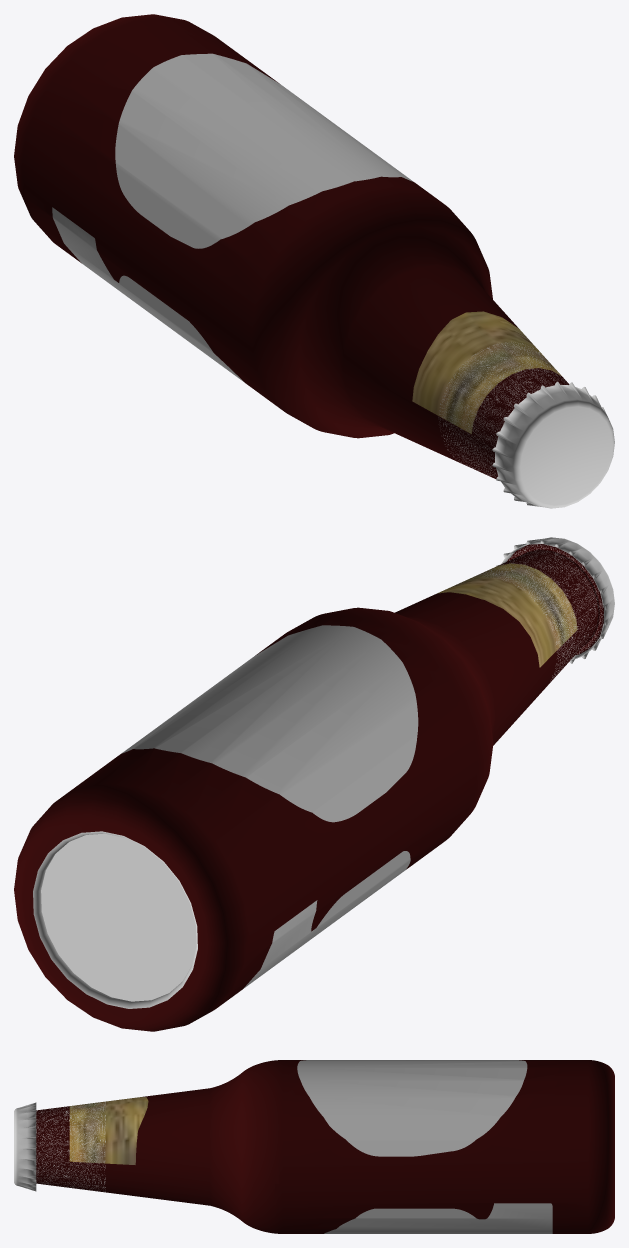
The model's file is model_scale.obj.
3 renders of one model, top to bottom at view 1: azimuth 30°, elevation 25°; view 2: azimuth 150°, elevation 25°; view 3: azimuth 270°, elevation 25°, orthographic. The views are drawn at different scales.
Parts seen in each view (by area): view 1: mesh1_mesh1-geometry, mesh2_mesh2-geometry; view 2: mesh1_mesh1-geometry, mesh2_mesh2-geometry; view 3: mesh1_mesh1-geometry, mesh2_mesh2-geometry.
Boxes of the visible parts, x1=… form: mesh1_mesh1-geometry: x1=14, y1=14, x2=569, y2=478; mesh2_mesh2-geometry: x1=492, y1=381, x2=614, y2=508; mesh1_mesh1-geometry: x1=14, y1=544, x2=603, y2=1031; mesh2_mesh2-geometry: x1=496, y1=537, x2=614, y2=663; mesh1_mesh1-geometry: x1=36, y1=1060, x2=614, y2=1233; mesh2_mesh2-geometry: x1=14, y1=1102, x2=36, y2=1191.
Size of the model in its own units: 0.0559 by 0.0559 by 0.1923.
